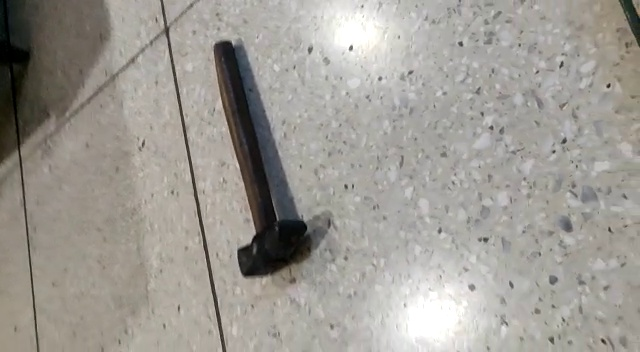hammer: (207, 41, 308, 278)
